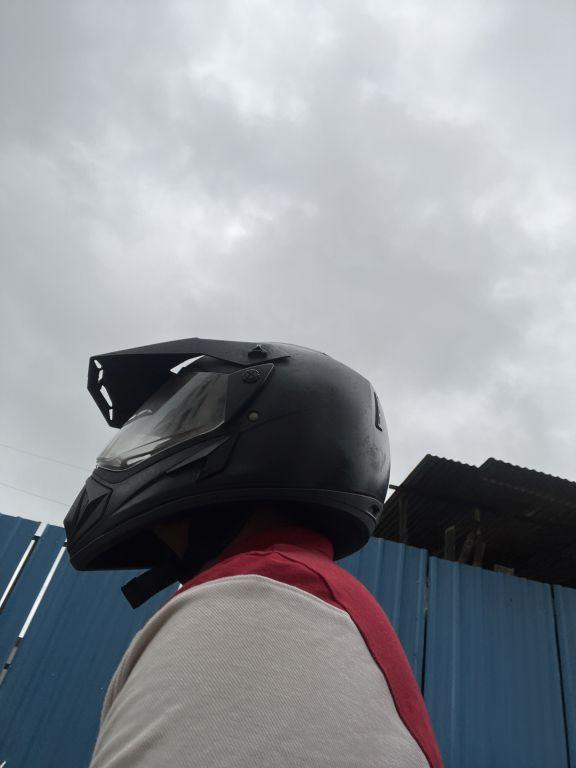helmet: (62, 325, 402, 602)
